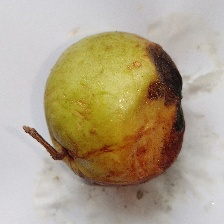guava: (0, 24, 194, 191)
